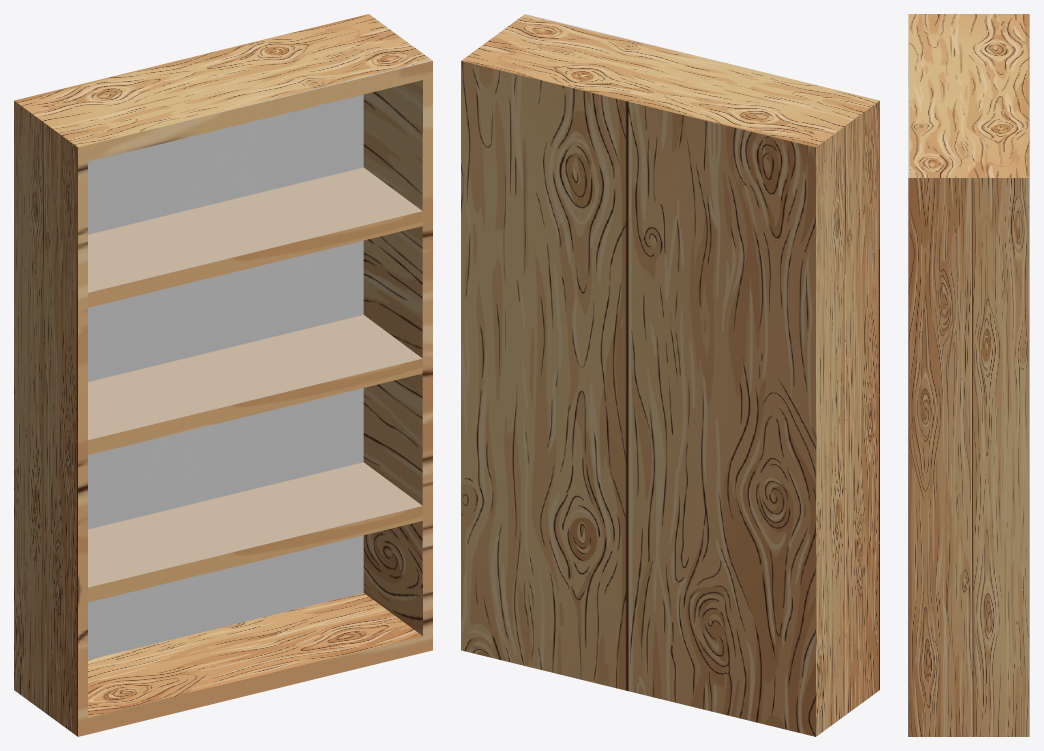
Rendered from libreria.fbx.
The picture shows the model from 3 angles, left to right: view 1: azimuth 30°, elevation 25°; view 2: azimuth 150°, elevation 25°; view 3: azimuth 270°, elevation 25°; orthographic projection. The views are drawn at different scales.
Visible parts, largest first — view 1: Estanteria; view 2: Estanteria; view 3: Estanteria.
Boxes of the visible parts, bbox=[...] form: Estanteria: bbox=[14, 14, 432, 736]; Estanteria: bbox=[461, 14, 879, 736]; Estanteria: bbox=[908, 14, 1029, 736].
Size of the model in its own units: 80 by 127 by 25.
1 material, 1 textured.
